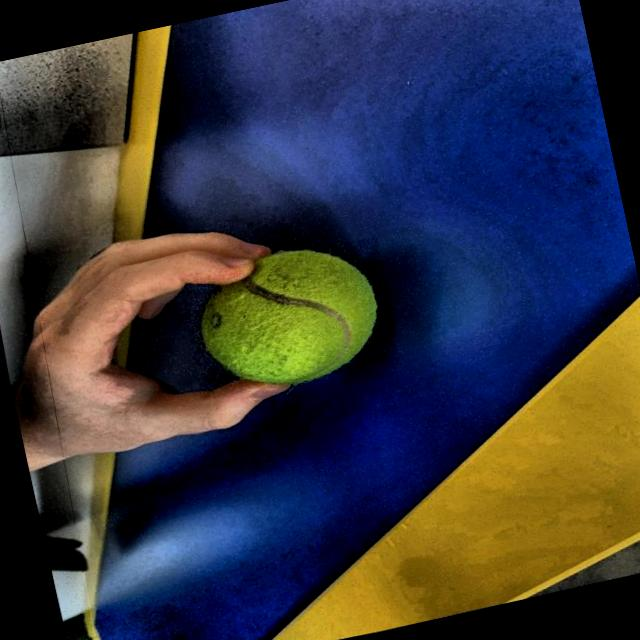tennis-ball: (172, 232, 404, 406)
